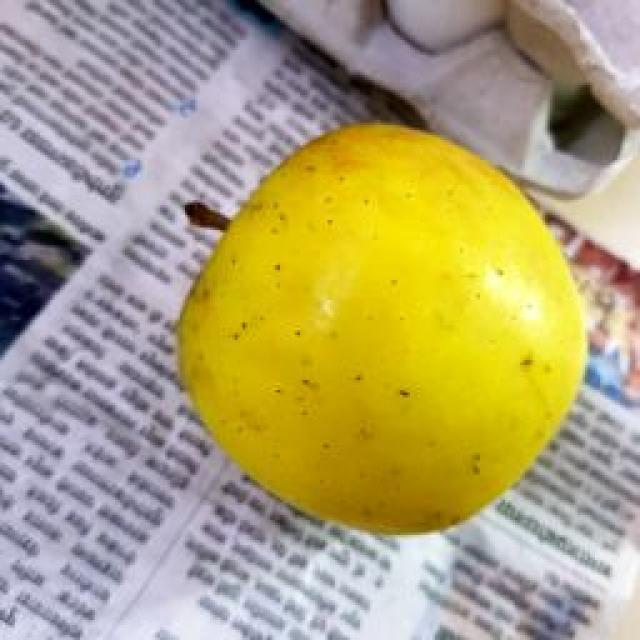Good_Apple: (175, 122, 588, 538)
